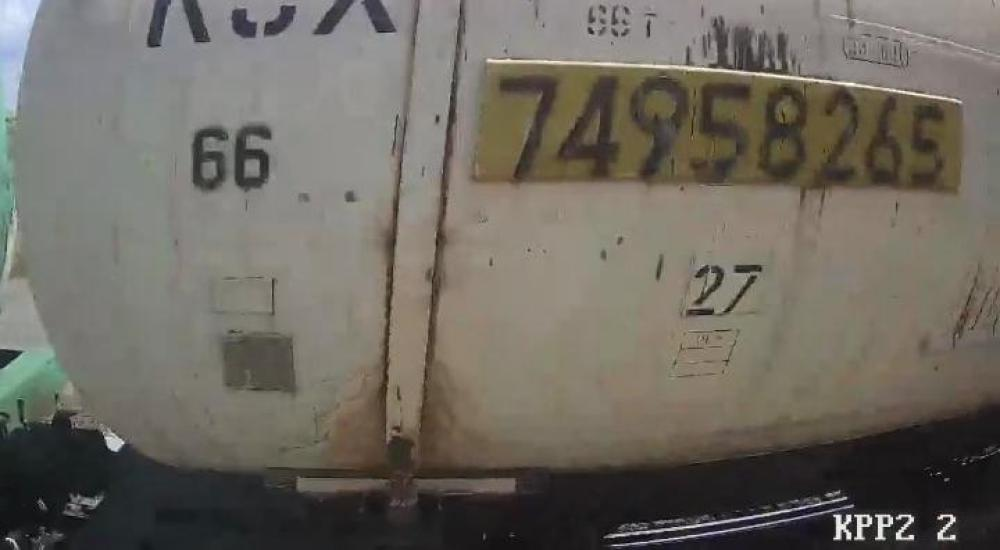Wagon-number: (494, 69, 951, 193)
